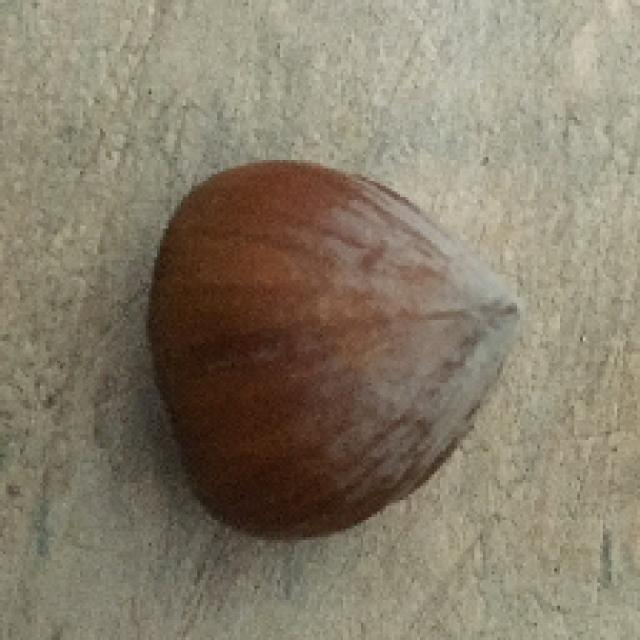qualityHazelnut: (132, 159, 522, 538)
